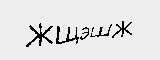Ж: (26, 21, 54, 49), (112, 17, 134, 41)
Ш: (90, 20, 112, 41)
Щ: (54, 25, 79, 46)
Э: (78, 24, 90, 43)
